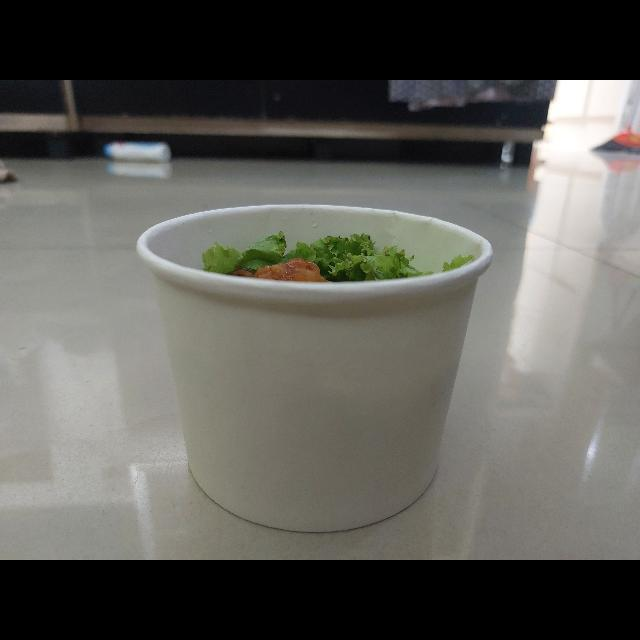rice-bowl: (120, 186, 500, 560)
